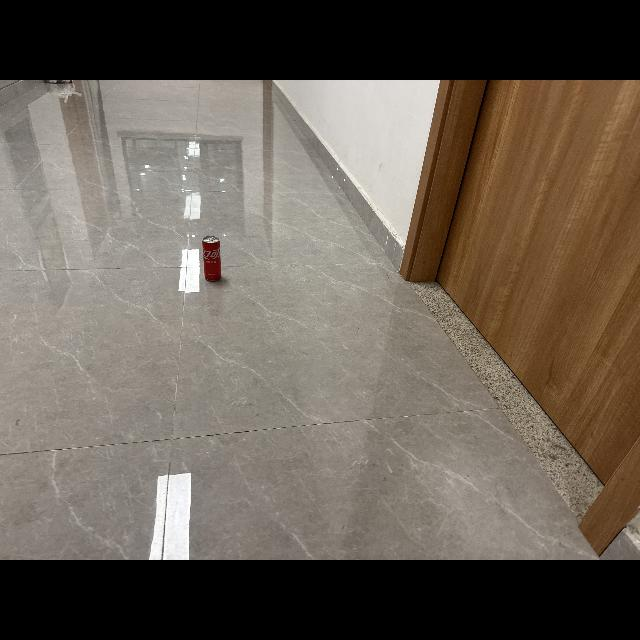Cola: (198, 232, 228, 286)
